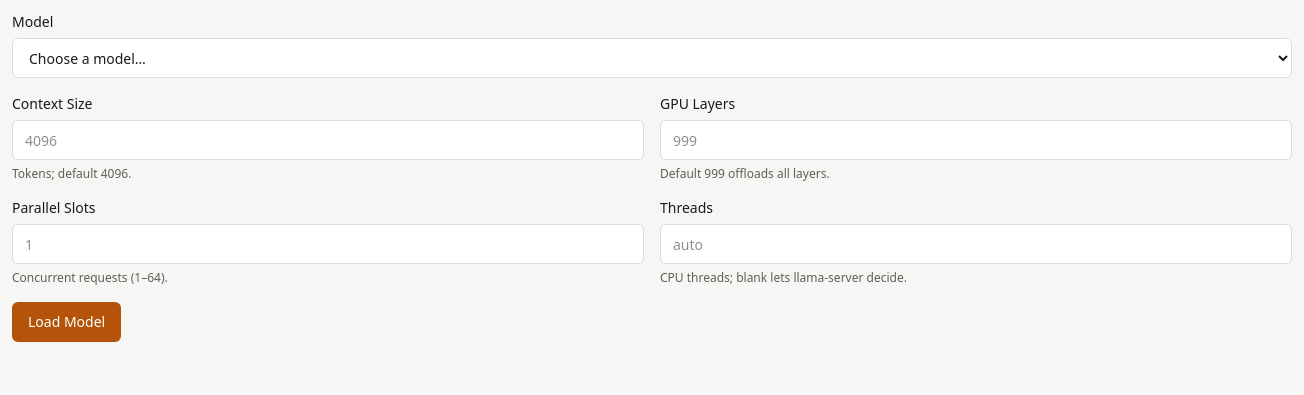
LoadModelForm › sends only the numeric fields that were filled in
This screenshot has width=1304, height=395.
Select "tiny-q4" in the dropdown labelled "Model": x=652, y=58 [12,38,1292,78]
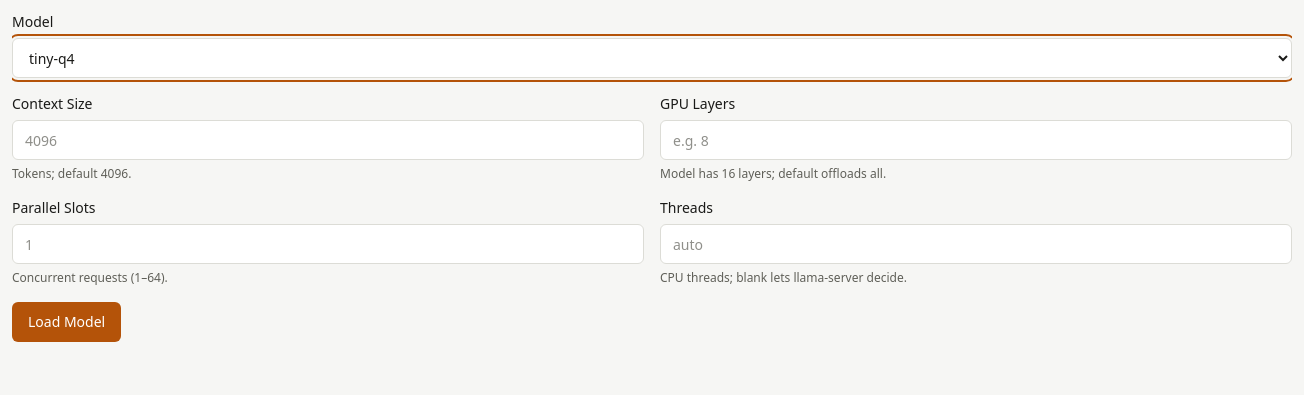
In the number field labelled "Context Size": x=328, y=140 [12,120,644,160], type "2048"
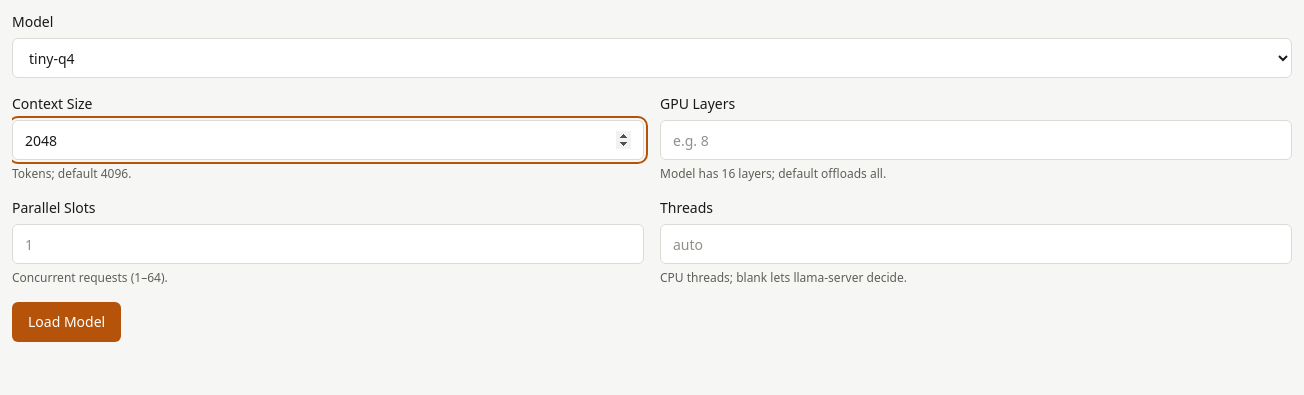
In the number field labelled "GPU Layers": x=976, y=140 [660,120,1292,160], type "8"
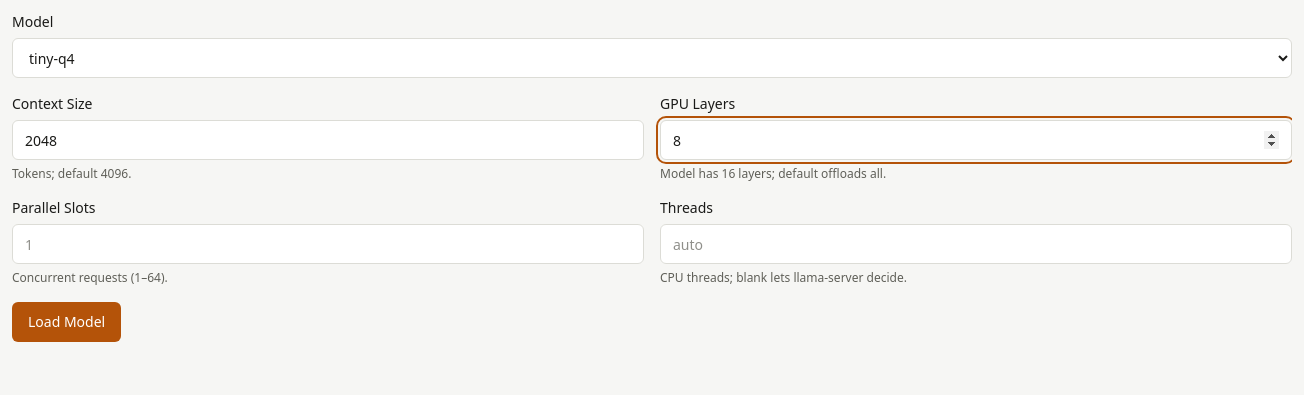
Click the button "Load Model": x=67, y=322 [12,302,121,342]
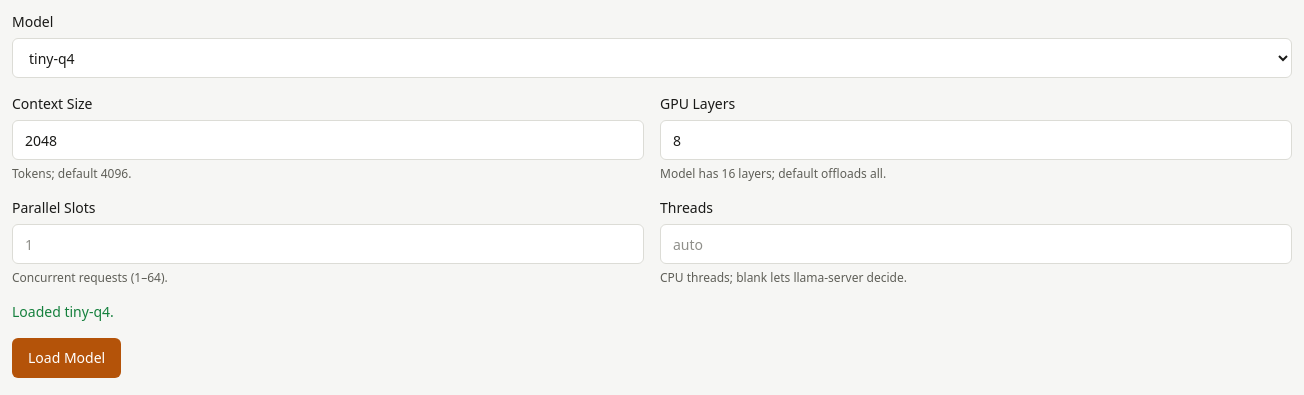
Check: the text "Loaded tiny-q4." is shown, box [12,302,114,321]
